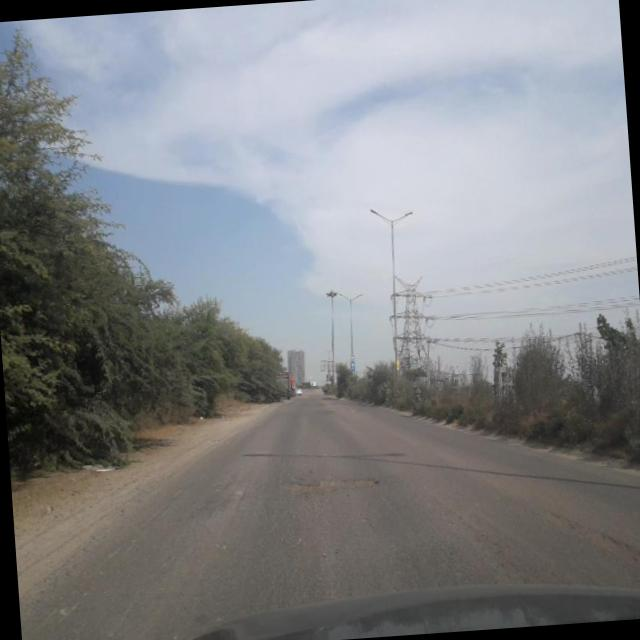crack: (208, 480, 503, 612), (80, 478, 195, 575), (92, 590, 136, 640), (33, 596, 80, 636)
pothole: (527, 481, 640, 571), (265, 458, 382, 504)
